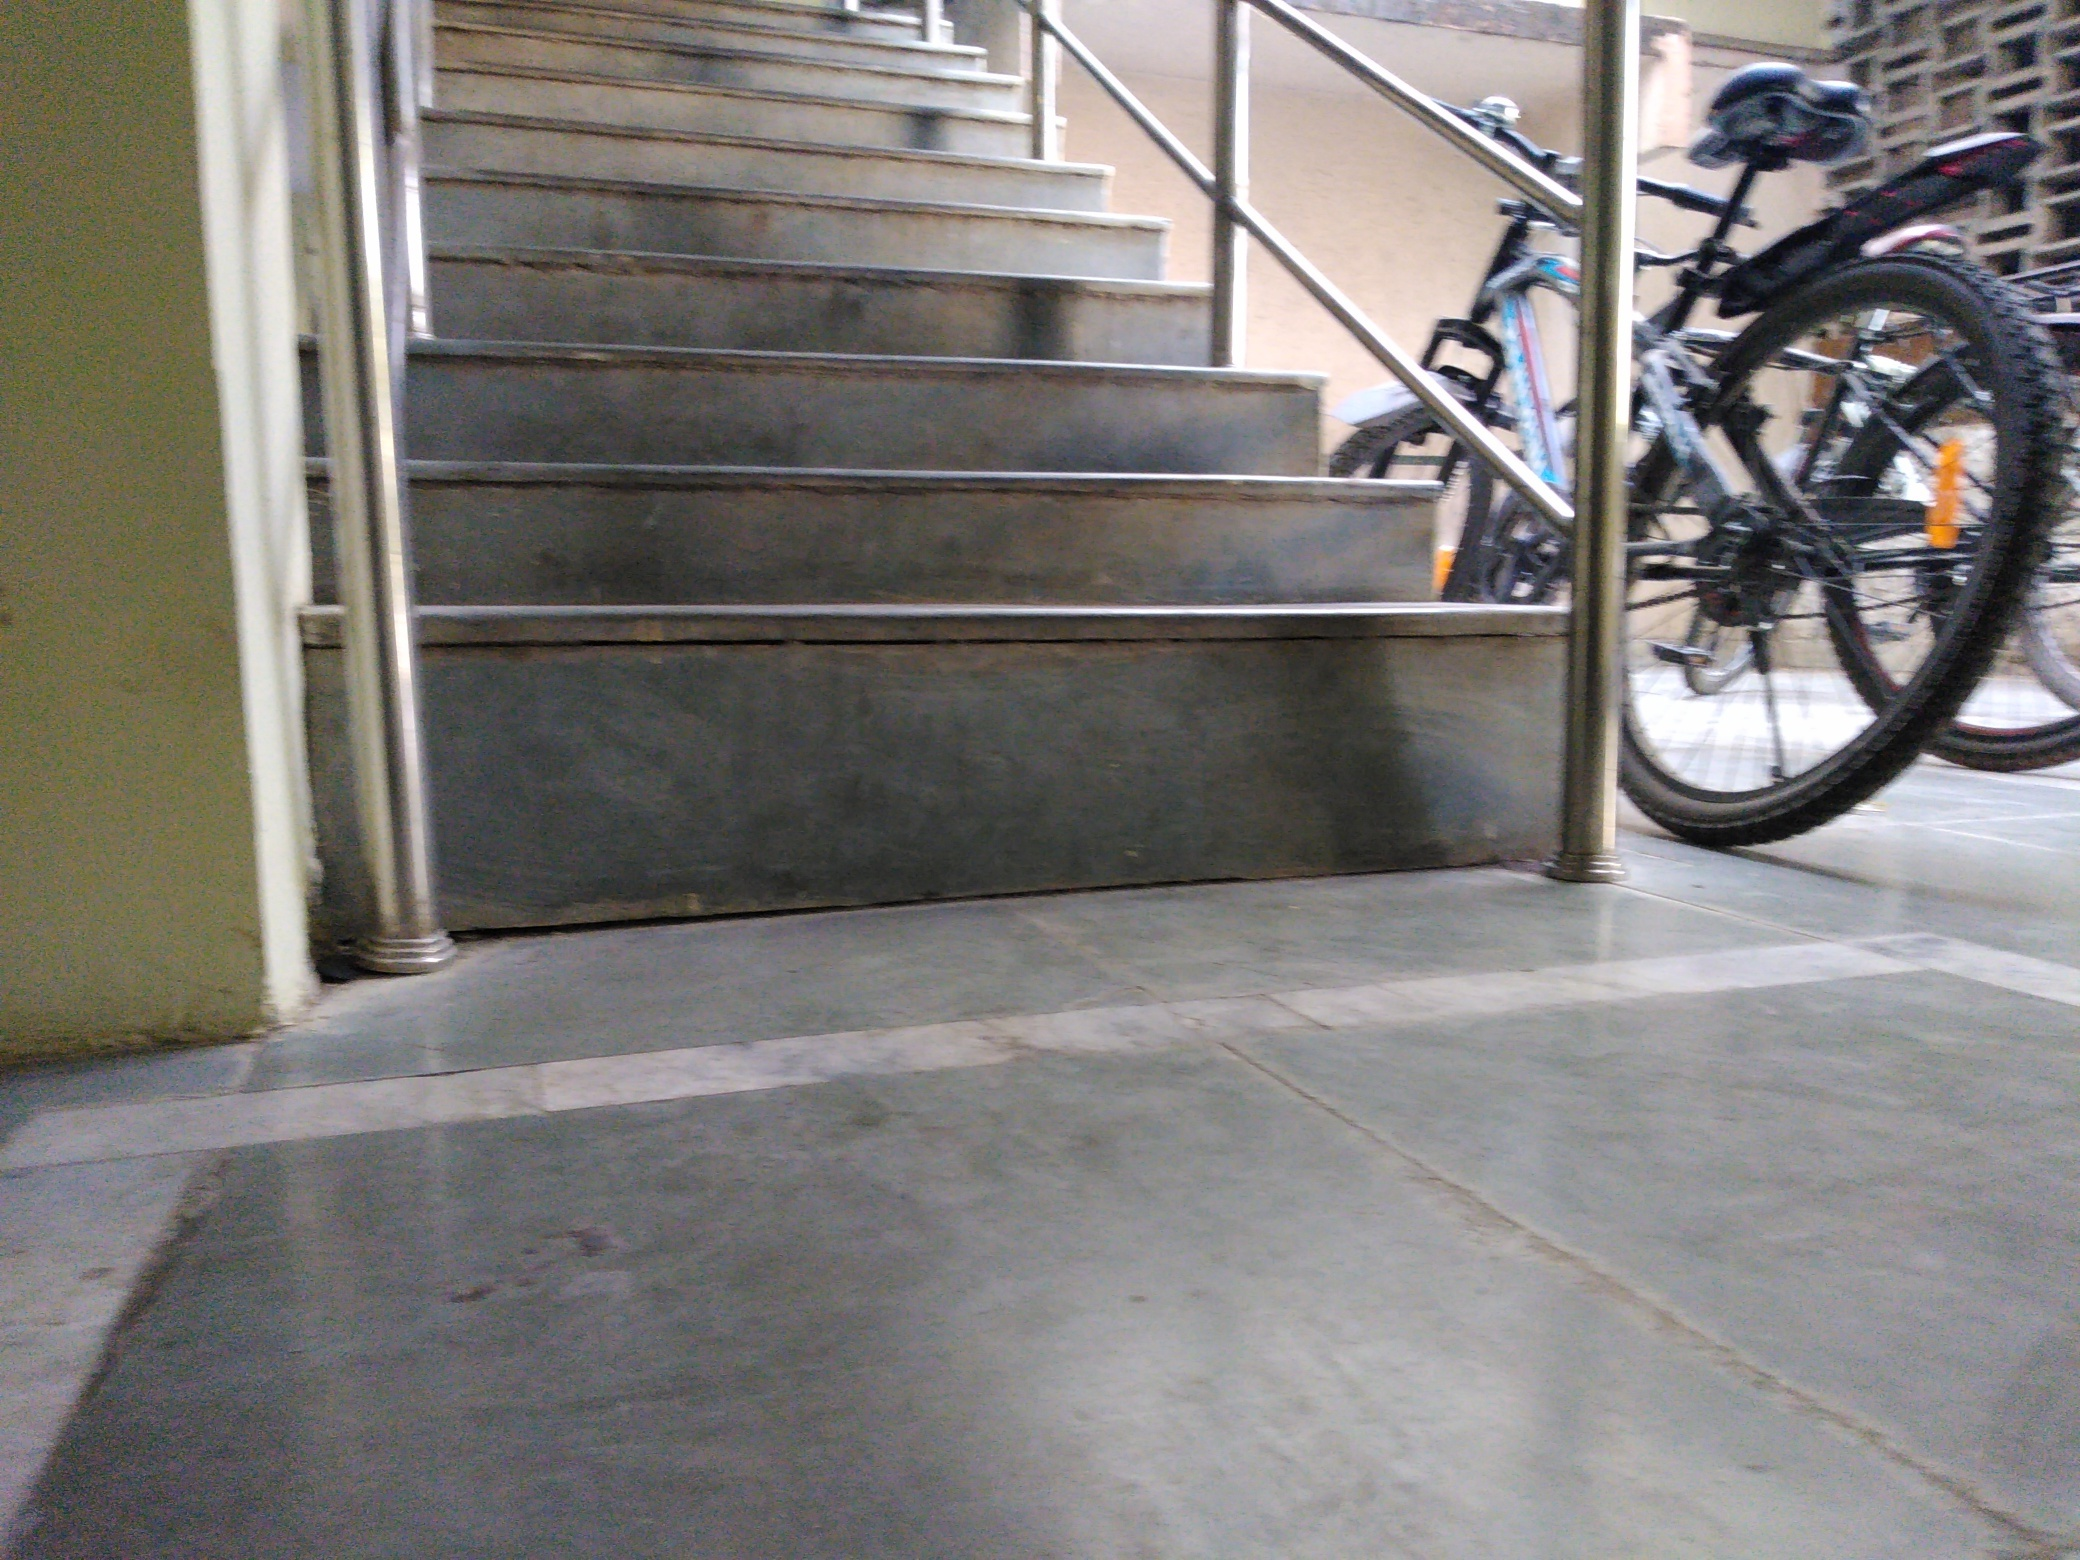stairs_up: (400, 29, 1535, 905)
